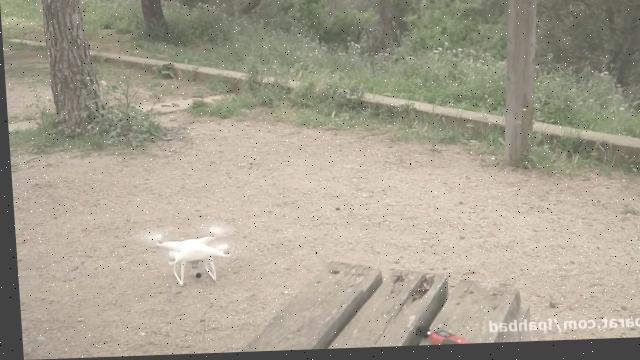drone: (131, 225, 237, 288)
